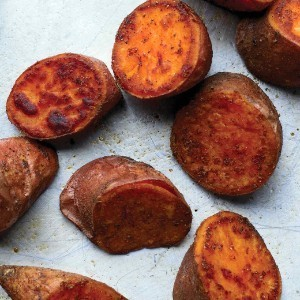sweet potato_brain food: (166, 92, 290, 173), (59, 165, 158, 257), (17, 49, 108, 148)
